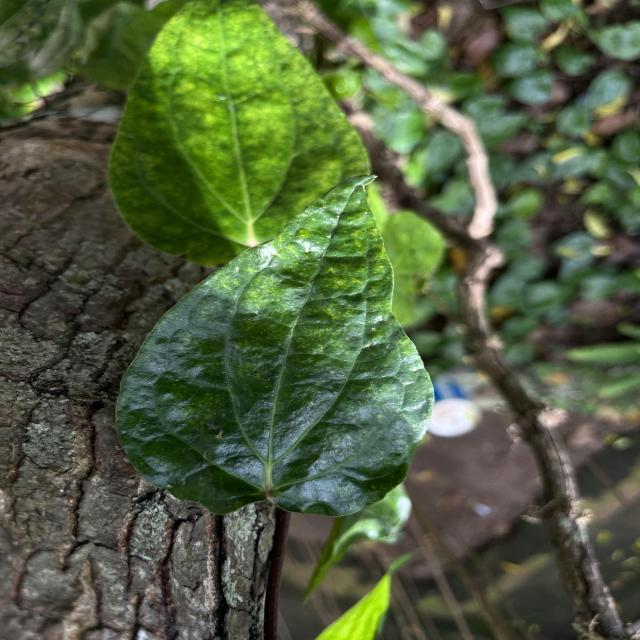Piper betle: (110, 172, 440, 520)
